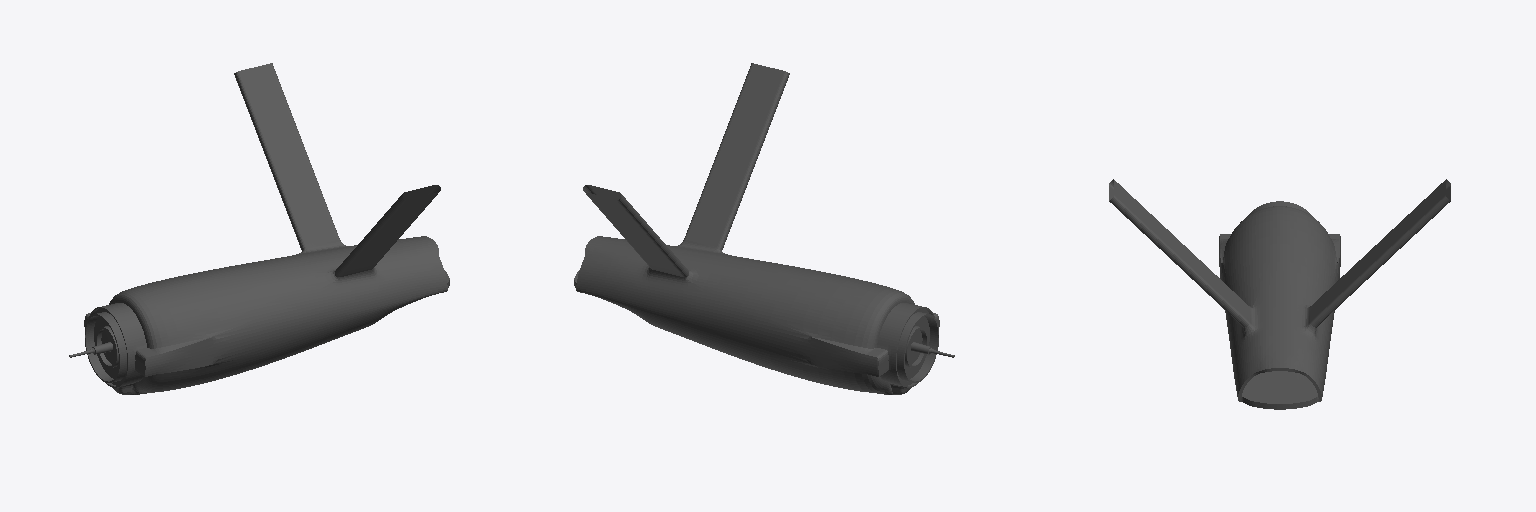
The model's file is m2b_secondary.obj.
3 renders of one model, left to right at view 1: azimuth 30°, elevation 25°; view 2: azimuth 150°, elevation 25°; view 3: azimuth 270°, elevation 25°, orthographic.
Visible parts, largest first — view 1: Default; view 2: Default; view 3: Default.
Part boxes in pixels (x1,y1,x2,y2): Default: (69,63,449,394); Default: (574,63,954,394); Default: (1109,179,1450,409).
Size of the model in its own units: 41.38 by 23 by 33.01.